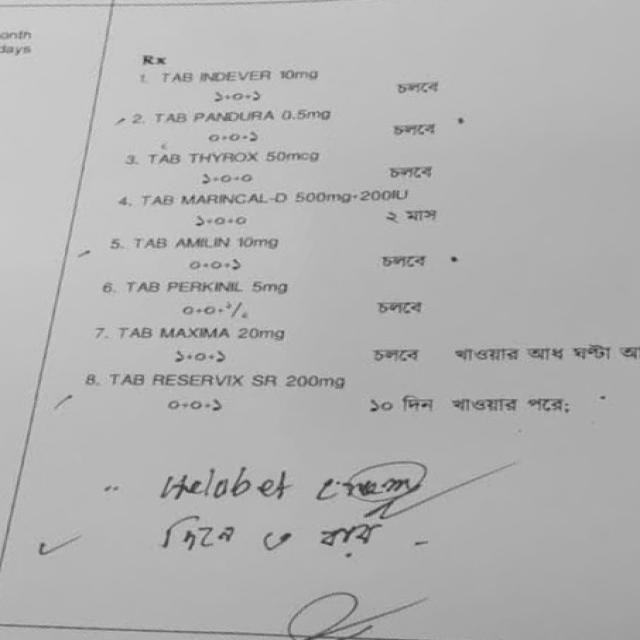medicine: (154, 467, 296, 506)
